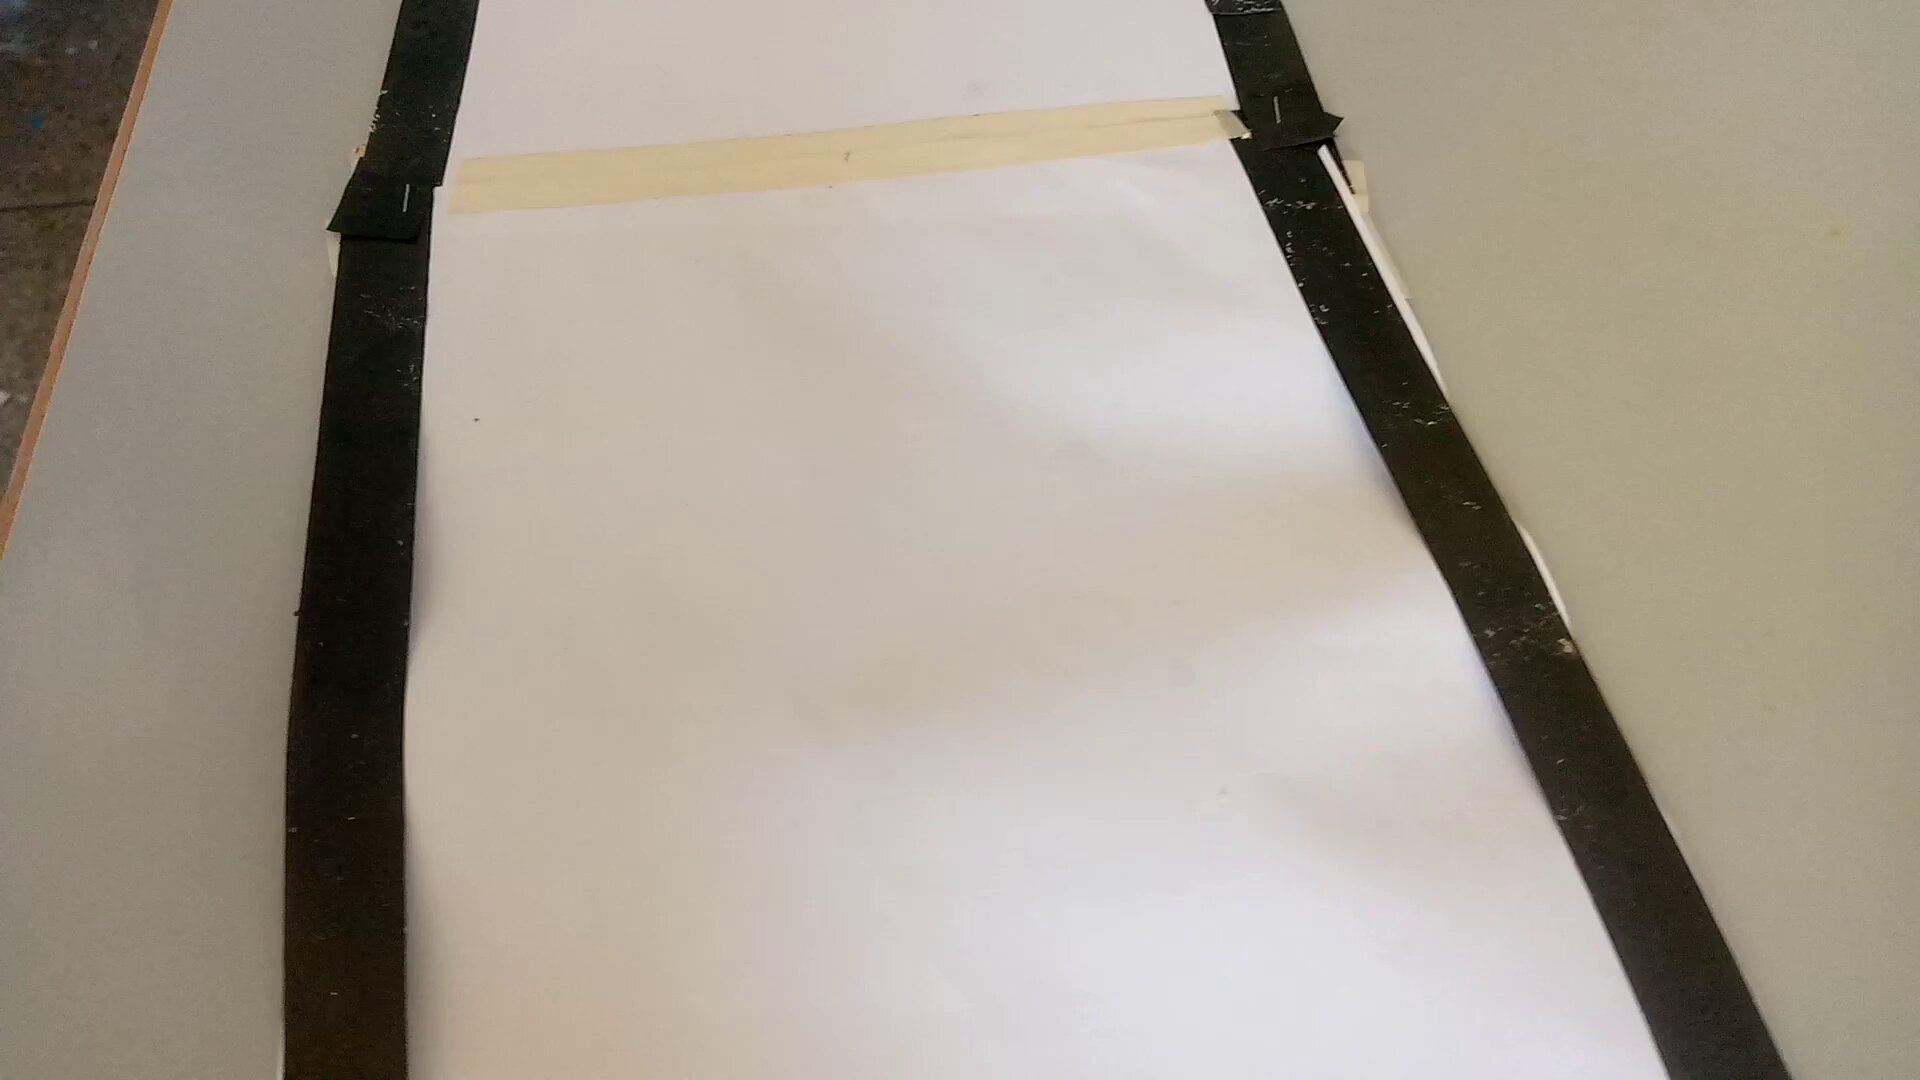right: (293, 22, 1563, 324)
